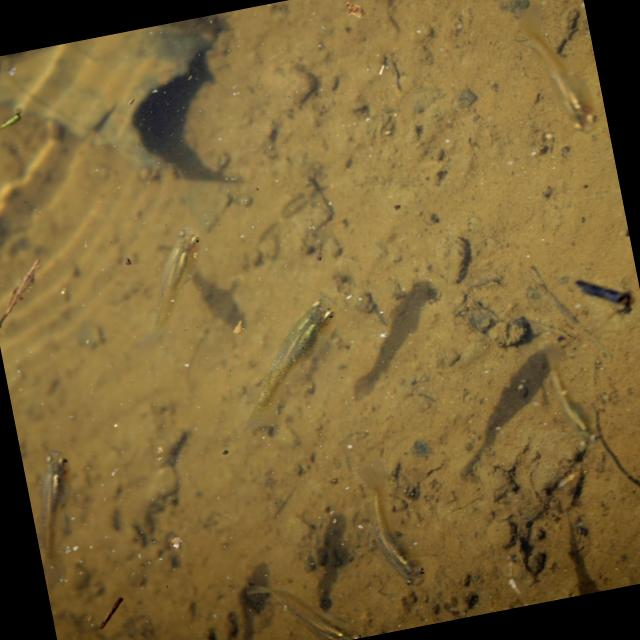Sivrisinek Baligi: (216, 296, 354, 442), (346, 446, 429, 594), (121, 226, 218, 344), (20, 448, 90, 588), (239, 563, 359, 640)
